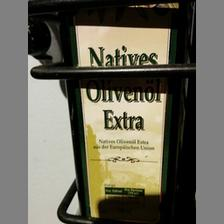Oel: (57, 0, 182, 219)
